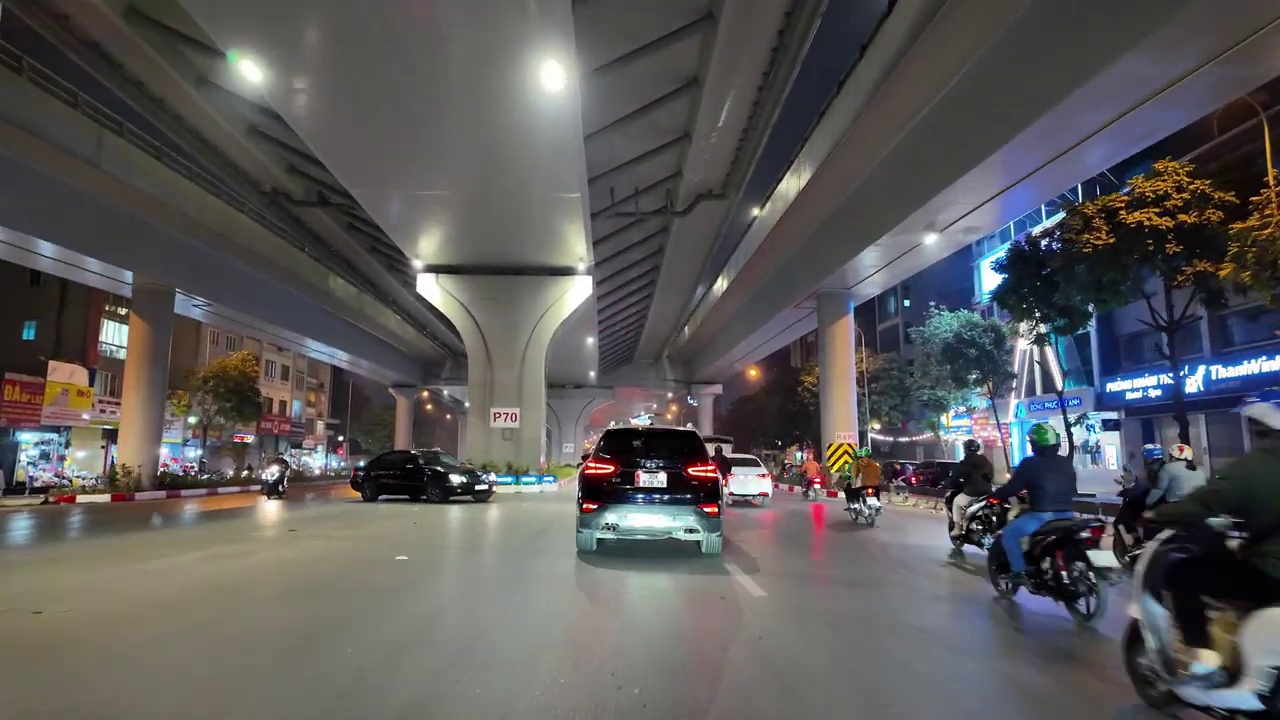acesa: (224, 48, 271, 93), (530, 53, 572, 99), (414, 225, 446, 264), (743, 363, 764, 383)
